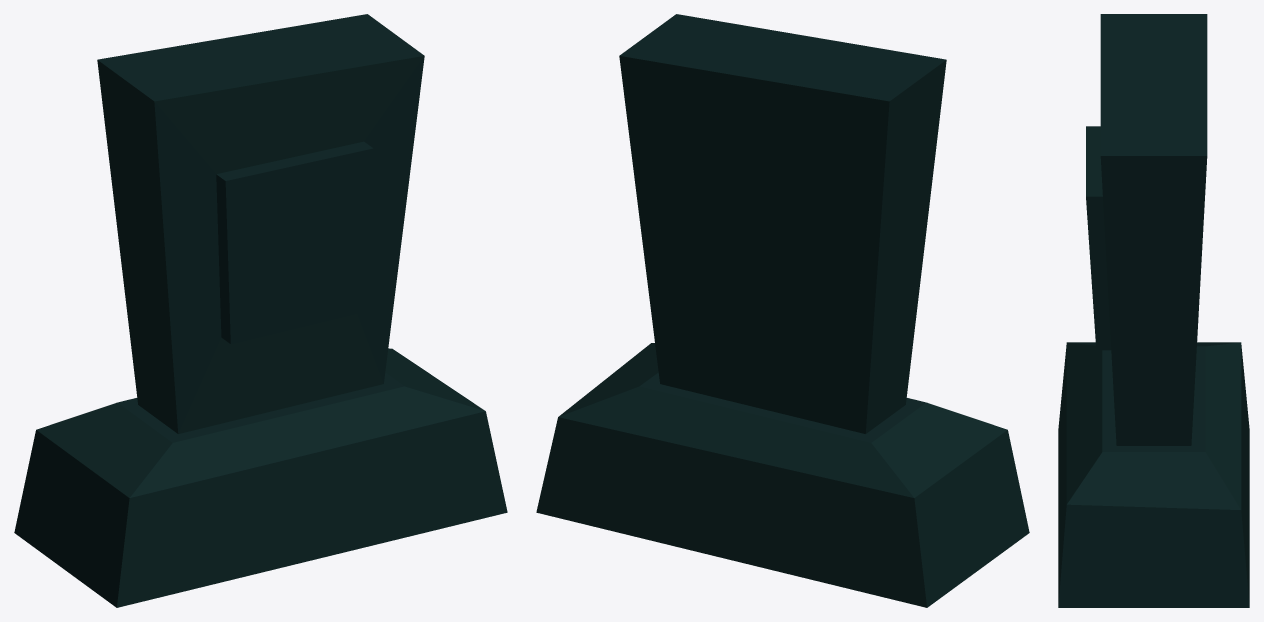
Rendered from gravestone_009_stone_0_lev1.glb.
The picture shows the model from 3 angles, left to right: view 1: azimuth 30°, elevation 25°; view 2: azimuth 150°, elevation 25°; view 3: azimuth 270°, elevation 25°; orthographic projection. The views are drawn at different scales.
Parts seen in each view (by area): view 1: gravestone_009_stone_0_lev1; view 2: gravestone_009_stone_0_lev1; view 3: gravestone_009_stone_0_lev1.
Boxes of the visible parts, bbox=[...] form: gravestone_009_stone_0_lev1: bbox=[14, 14, 507, 607]; gravestone_009_stone_0_lev1: bbox=[536, 14, 1029, 607]; gravestone_009_stone_0_lev1: bbox=[1058, 14, 1249, 607].
Bounding box in the file's own units: 0.3951 × 0.459 × 0.1795.
